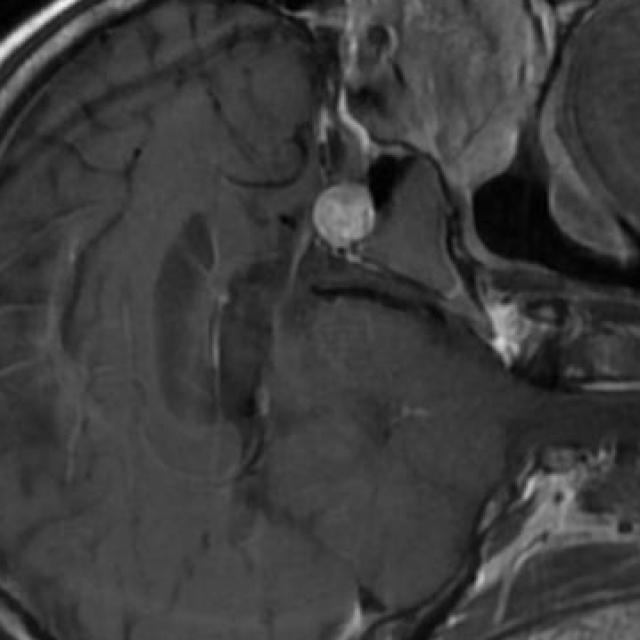pituitary: (312, 185, 371, 250)
